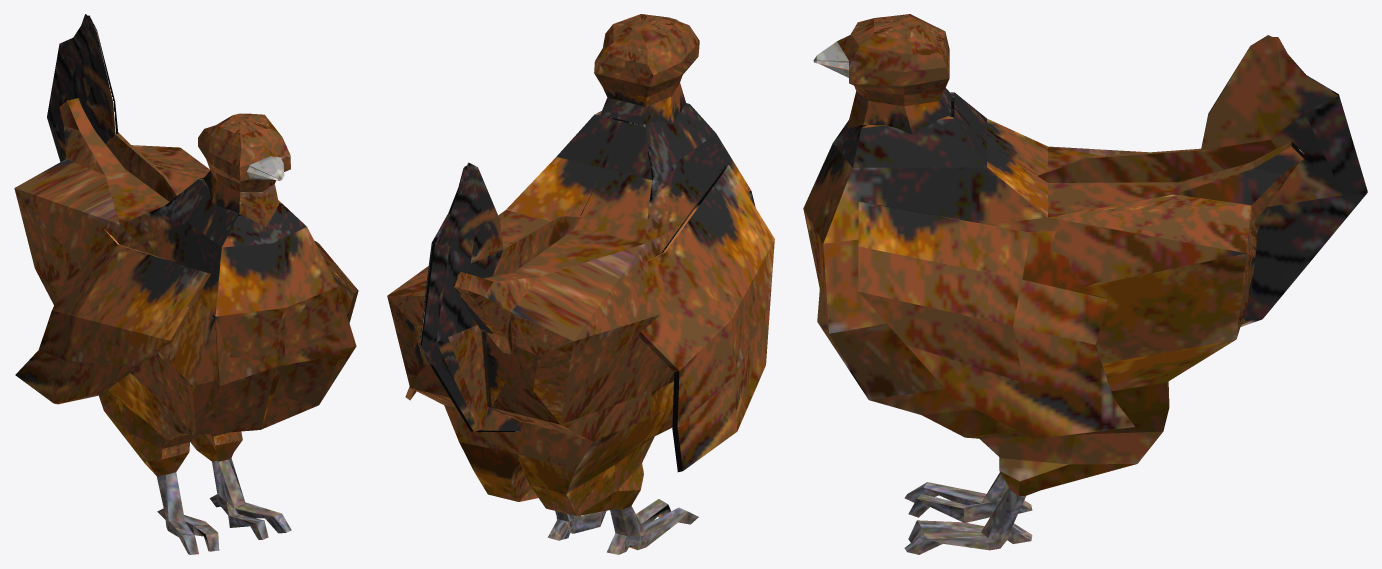
File: Chicken.fbx
3 views of the same model, side by side, from view 1: azimuth 30°, elevation 25°; view 2: azimuth 150°, elevation 25°; view 3: azimuth 270°, elevation 25° (orthographic). The views are drawn at different scales.
Parts seen in each view (by area): view 1: Body; view 2: Body; view 3: Body.
Boxes of the visible parts, left/top/right/bottom form: Body: left=14, top=14, right=358, bottom=554; Body: left=387, top=14, right=774, bottom=554; Body: left=803, top=14, right=1367, bottom=554.
Size of the model in its own units: 40.64 by 62.52 by 62.75.
Materials: 1 (1 with a texture image).
